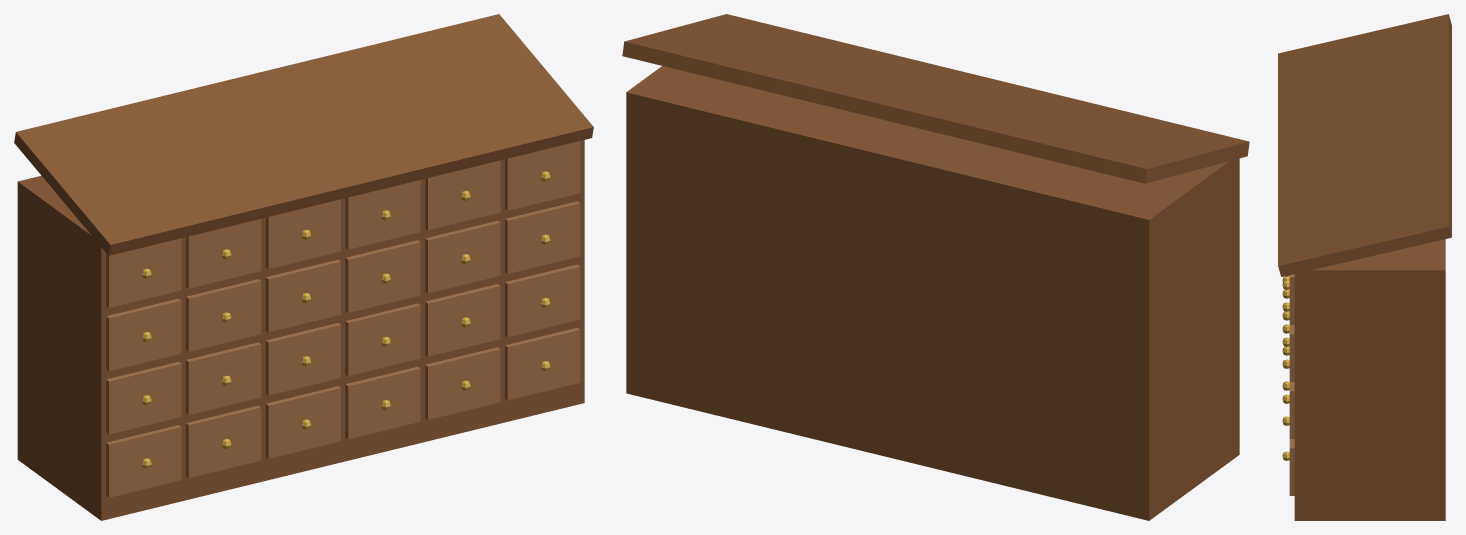
Rendered from type_case.glb.
The picture shows the model from 3 angles, left to right: view 1: azimuth 30°, elevation 25°; view 2: azimuth 150°, elevation 25°; view 3: azimuth 270°, elevation 25°; orthographic projection. The views are drawn at different scales.
Parts seen in each view (by area): view 1: drawer_drawer_face, slope_shop_wood, case_shop_wood, pull_pull_brass; view 2: case_shop_wood, slope_shop_wood; view 3: case_shop_wood, slope_shop_wood, drawer_drawer_face, pull_pull_brass.
Boxes of the visible parts, x1,y1,x2,y2 form: drawer_drawer_face: (106, 141, 580, 497); slope_shop_wood: (14, 14, 593, 255); case_shop_wood: (17, 140, 584, 520); pull_pull_brass: (141, 171, 550, 468); case_shop_wood: (626, 66, 1239, 520); slope_shop_wood: (622, 14, 1249, 183); case_shop_wood: (1294, 239, 1445, 520); slope_shop_wood: (1278, 14, 1451, 276); drawer_drawer_face: (1289, 274, 1294, 495); pull_pull_brass: (1282, 275, 1289, 460).
Bounding box in the file's own units: 2 × 1.29 × 0.6906.
